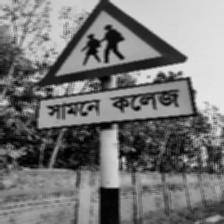College-in-front: (33, 0, 201, 140)
